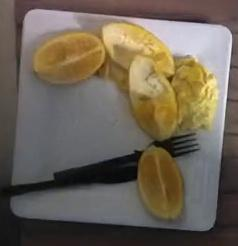fruit: (34, 33, 105, 84), (136, 145, 181, 219)
